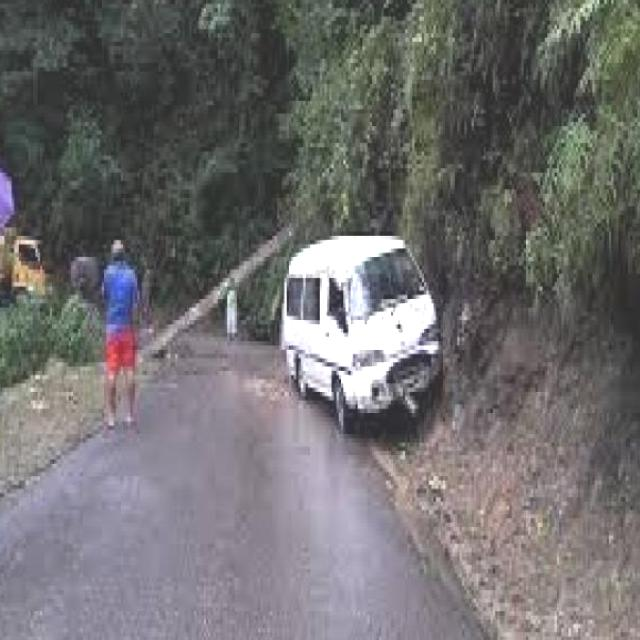fallen_object: (138, 190, 319, 377)
